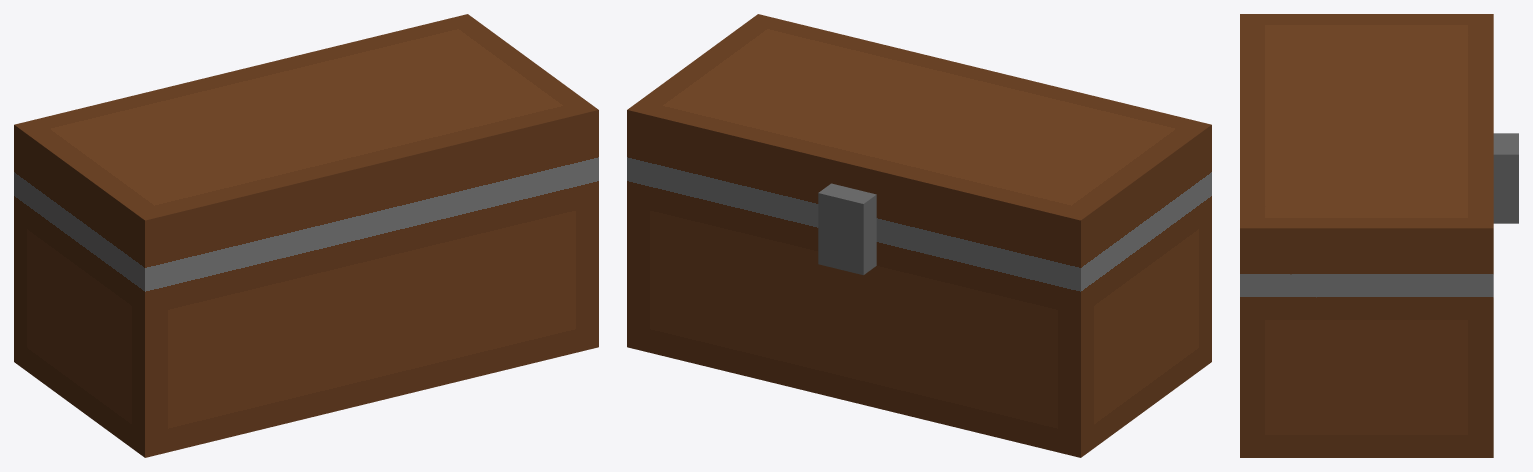
Rendered from basic_chest.dae.
3 views of the same model, side by side, from view 1: azimuth 30°, elevation 25°; view 2: azimuth 150°, elevation 25°; view 3: azimuth 270°, elevation 25° (orthographic). The views are drawn at different scales.
Parts seen in each view (by area): view 1: basic_chest; view 2: basic_chest; view 3: basic_chest.
Boxes of the visible parts, x1,y1,x2,y2 form: basic_chest: (14, 14, 598, 457); basic_chest: (627, 14, 1211, 457); basic_chest: (1240, 14, 1518, 457).
Size of the model in its own units: 2 by 1 by 1.1.
1 material, 1 textured.
